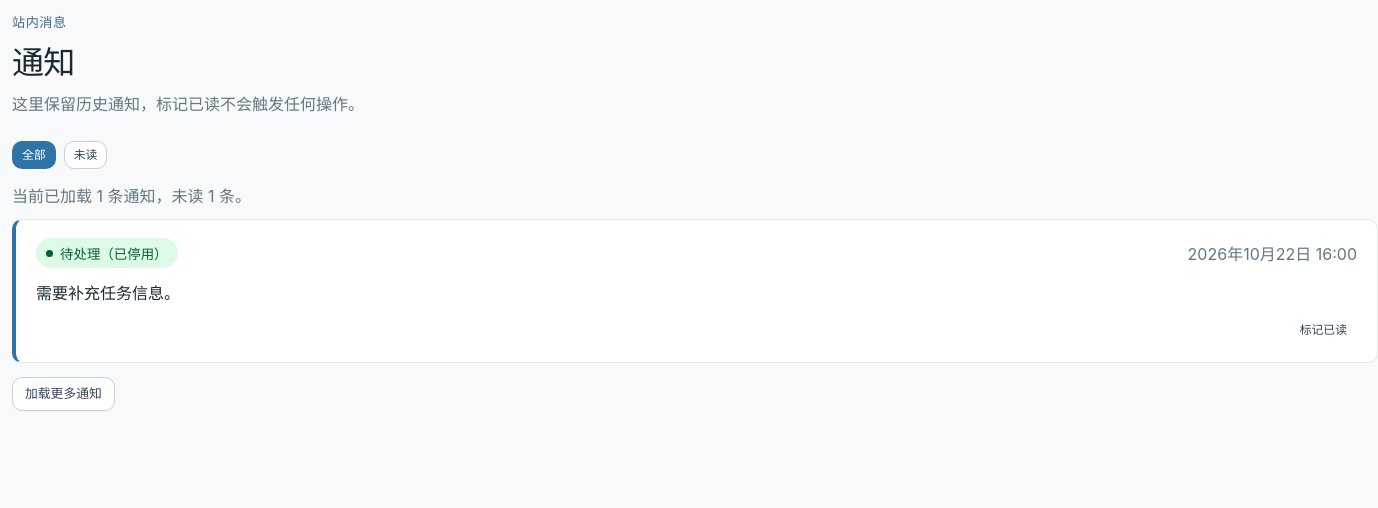
Notifications › keeps loaded notifications visible when loading another page fails
Expected: the text "需要补充任务信息。" is shown, [36,283,180,303]
Click the button "加载更多通知" at x=63, y=394, box [12,377,115,411]
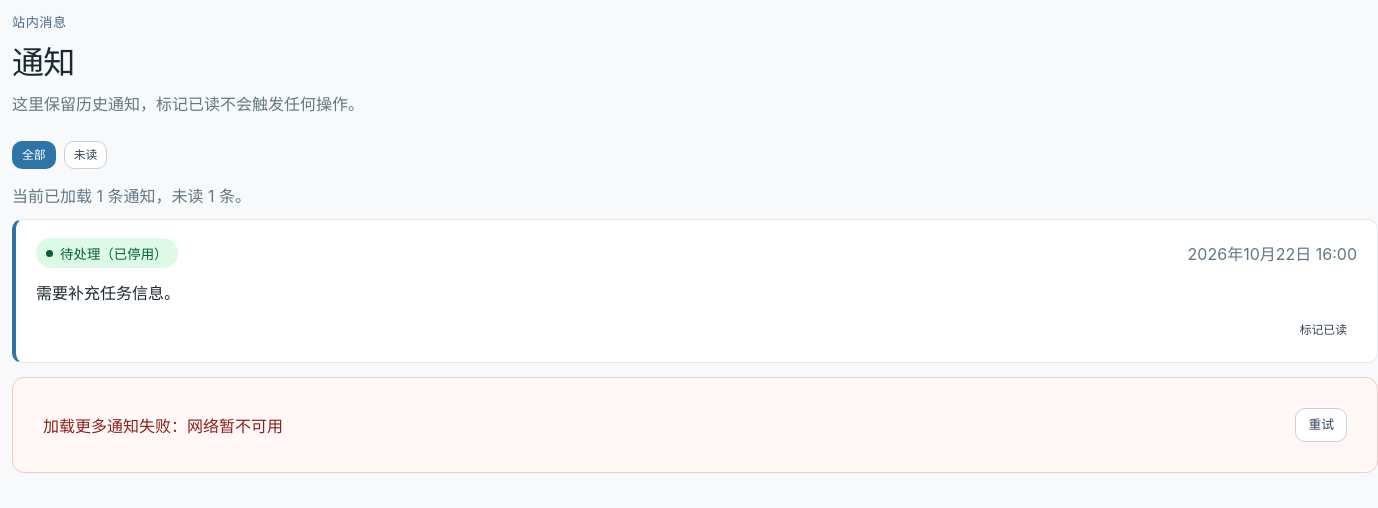
Expected: the text "需要补充任务信息。" is shown, [36,283,180,303]
Expected: the message shows "加载更多通知失败", [43,416,187,436]
Click the button "重试" at x=1321, y=425, box [1295,408,1347,442]
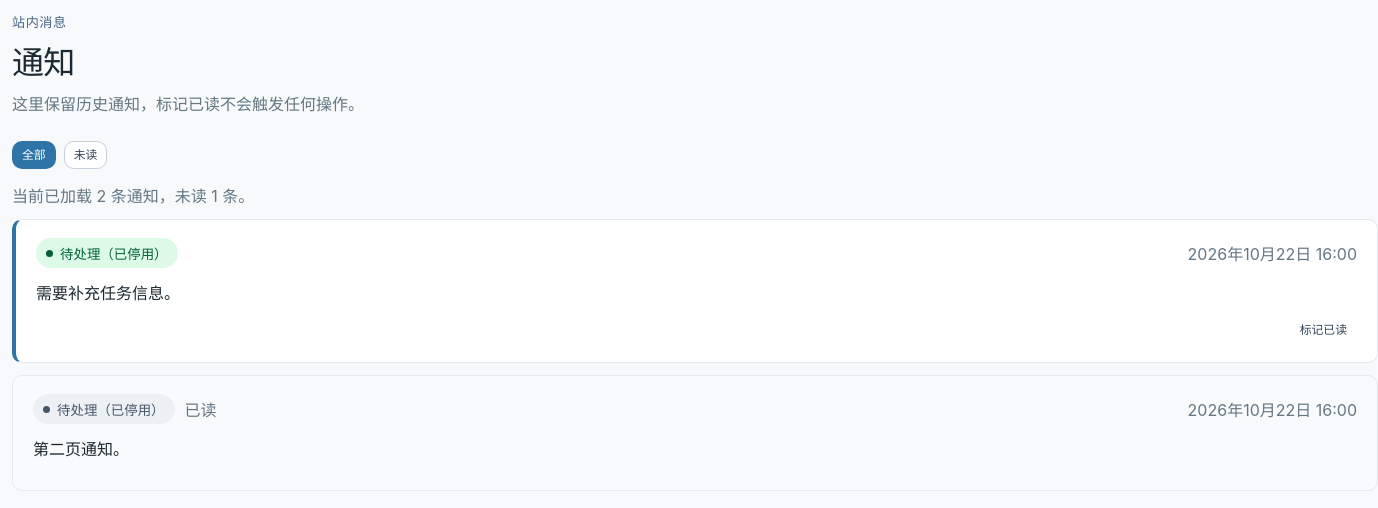
Expected: the text "已读" is shown, [184,397,216,421]
